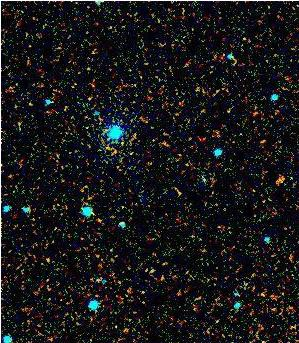star: (262, 165, 292, 195)
